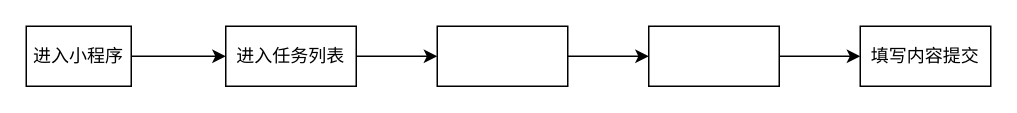
Image size: 1017x113. Some labels were removed from this diagram. The shapes that lost their labels are listed below. From the top down, each one's centre as x and y in pixels, then its label:
At pixel 502 55: "查看任务详情".
At pixel 713 55: "点击申请任务按钮".
